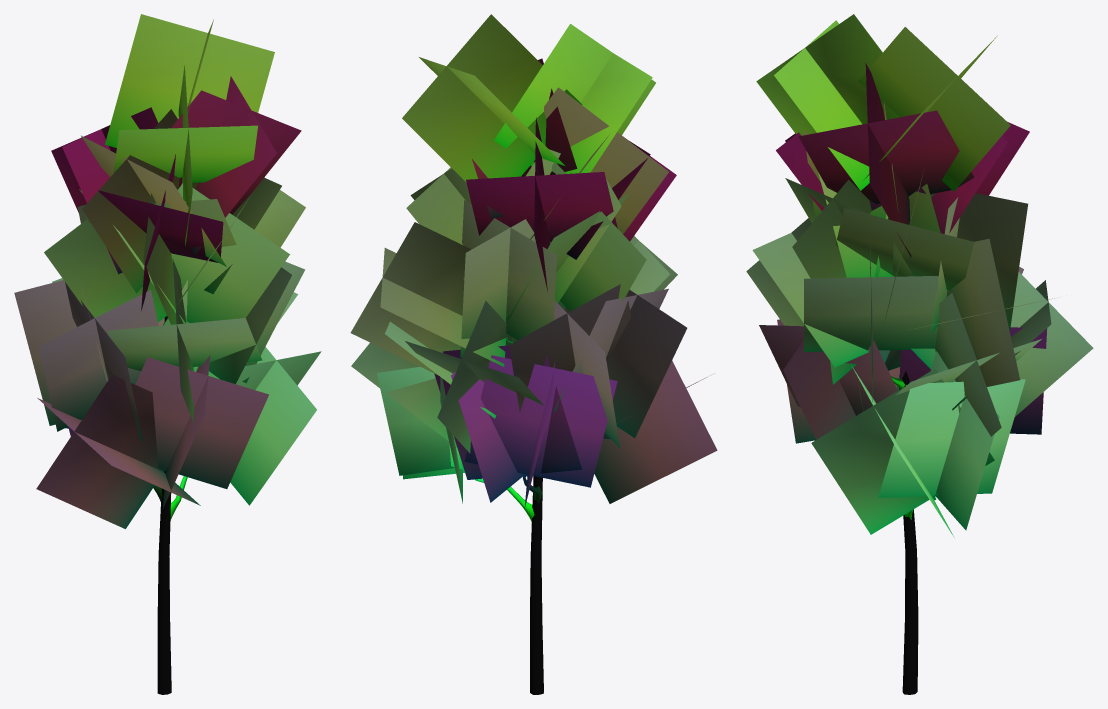
Rendered from URP_P12_Tree_14_LOD_3.fbx.
3 renders of one model, left to right at view 1: azimuth 30°, elevation 25°; view 2: azimuth 150°, elevation 25°; view 3: azimuth 270°, elevation 25°, orthographic. The views are drawn at different scales.
Parts seen in each view (by area): view 1: Tree_14_LOD_3; view 2: Tree_14_LOD_3; view 3: Tree_14_LOD_3.
Part boxes in pixels (x1=…): Tree_14_LOD_3: x1=14, y1=14, x2=321, y2=694; Tree_14_LOD_3: x1=350, y1=14, x2=717, y2=694; Tree_14_LOD_3: x1=746, y1=14, x2=1093, y2=694.
Bounding box in the file's own units: 171 × 355 × 162.
